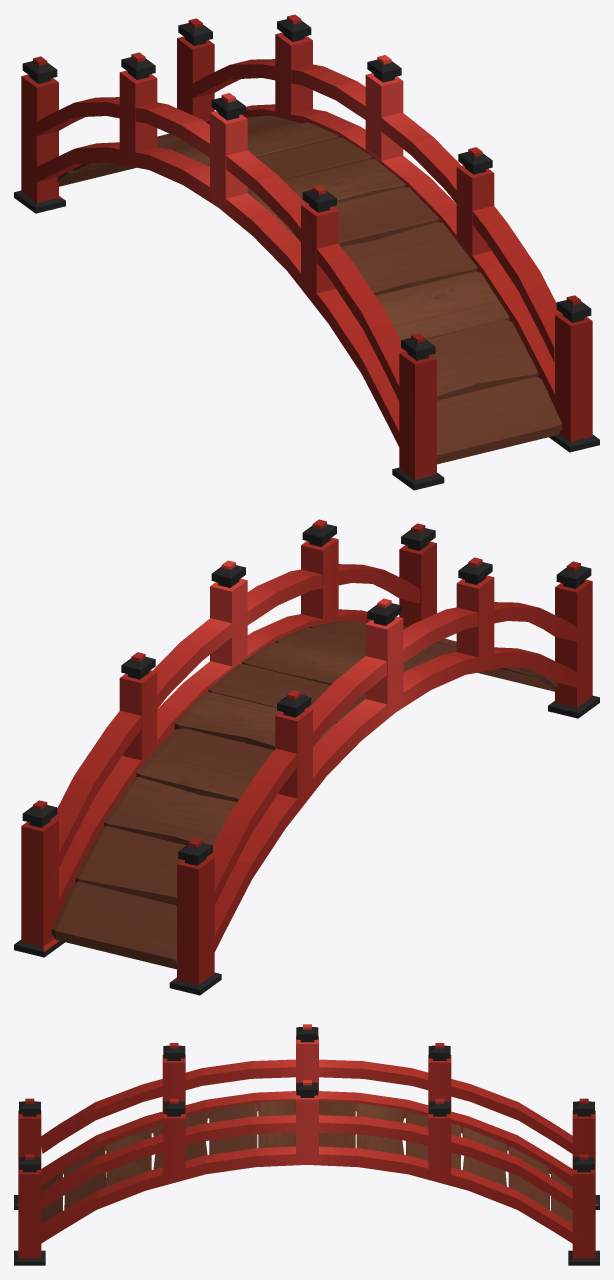
The model's file is Raven_Wooden_Bridge.fbx.
3 renders of one model, top to bottom at view 1: azimuth 30°, elevation 25°; view 2: azimuth 150°, elevation 25°; view 3: azimuth 270°, elevation 25°, orthographic. The views are drawn at different scales.
Visible parts, largest first — view 1: Cube.002, Cube.001; view 2: Cube.002, Cube.001; view 3: Cube.002, Cube.001.
Part boxes in pixels (x1=…): Cube.002: x1=14, y1=14, x2=599, y2=490; Cube.001: x1=57, y1=115, x2=562, y2=464; Cube.002: x1=14, y1=519, x2=599, y2=995; Cube.001: x1=51, y1=620, x2=557, y2=969; Cube.002: x1=14, y1=1024, x2=599, y2=1265; Cube.001: x1=41, y1=1100, x2=572, y2=1224.
Size of the model in its own units: 306 by 383 by 1139.
Materials: 2 (1 with a texture image).
